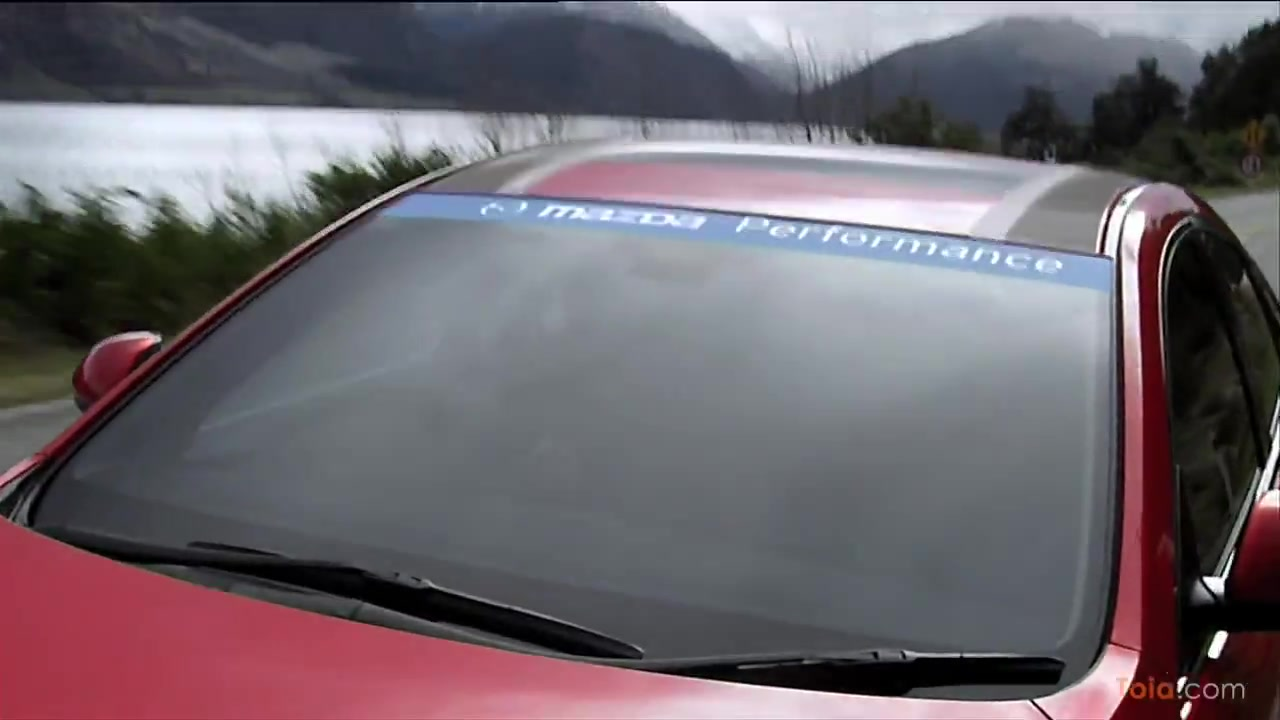car: (4, 142, 1280, 720)
